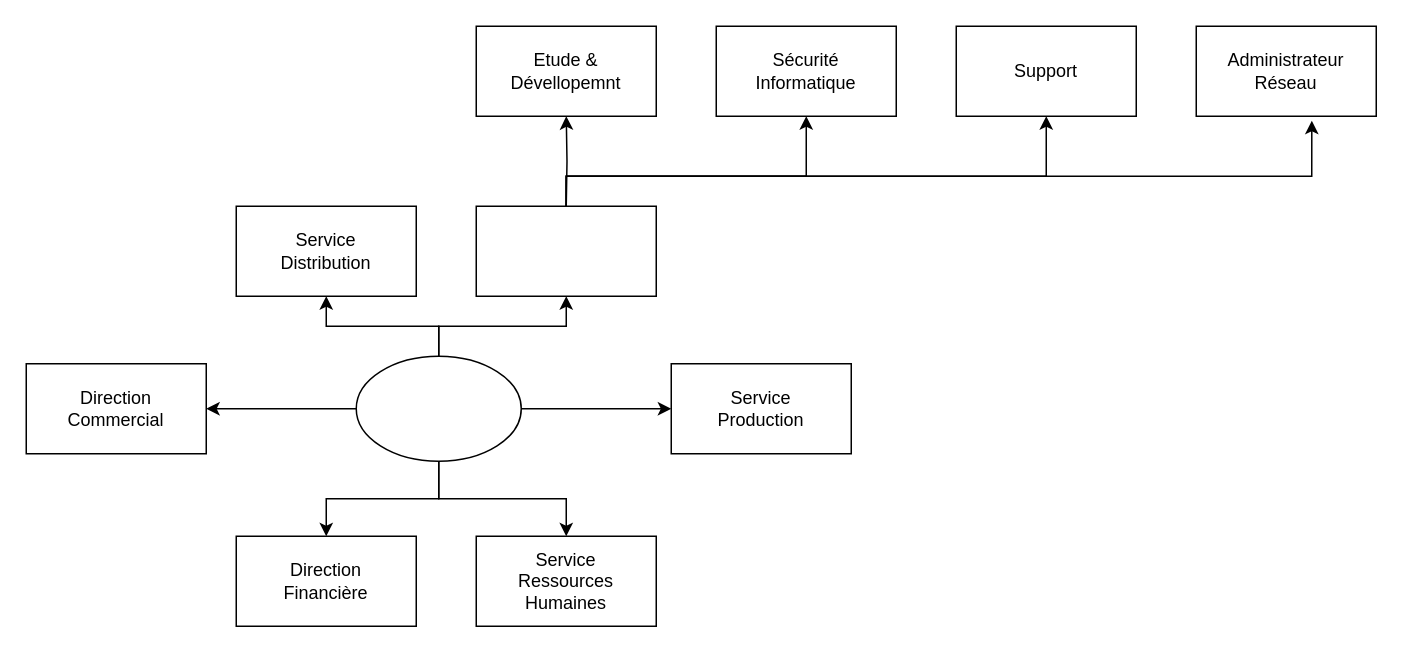
Image size: 1403x653. Some labels were removed from this diagram. Here are the shapes that lost their labels. From the top down, the centre of each, then its label:
[565,250]: Service Informatique
[438,408]: K_ElectroniK
